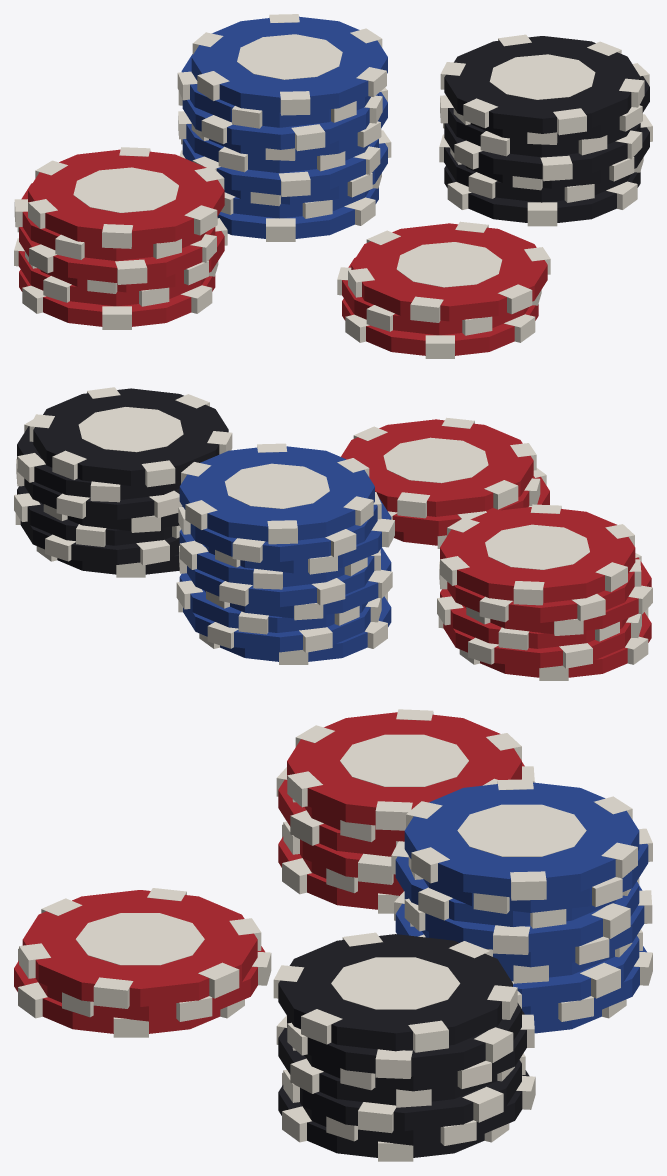
File: chip_stack.glb
3 renders of one model, top to bottom at view 1: azimuth 30°, elevation 25°; view 2: azimuth 150°, elevation 25°; view 3: azimuth 270°, elevation 25°, orthographic. The views are drawn at different scales.
Visible parts, largest first — view 1: ChipStacks; view 2: ChipStacks; view 3: ChipStacks.
Boxes of the visible parts, box(x1,y1,x2,y2) form: ChipStacks: box(14, 14, 652, 358); ChipStacks: box(14, 387, 652, 680); ChipStacks: box(14, 709, 652, 1161).
Size of the model in its own units: 0.1446 by 0.0307 by 0.1088.
